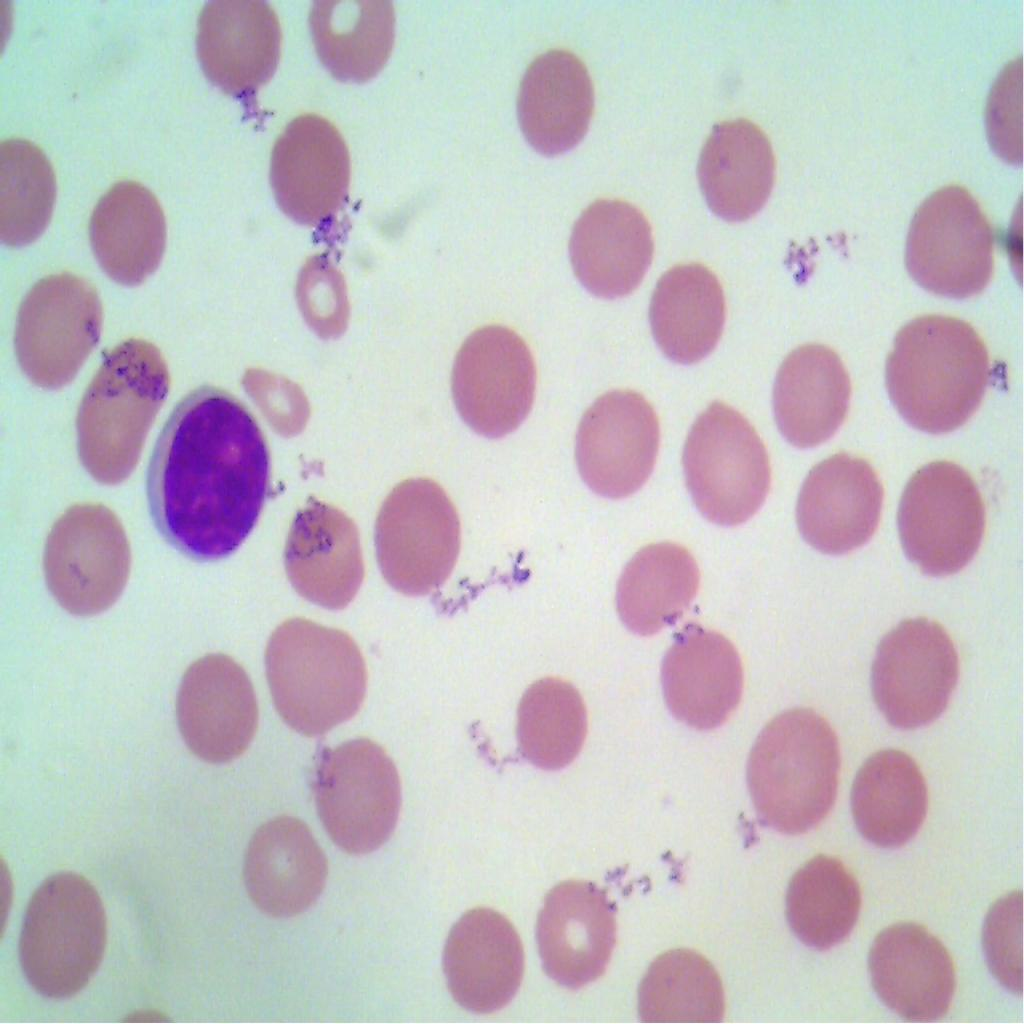Eritrosit: (256, 611, 389, 738), (302, 728, 411, 878), (32, 481, 146, 624), (886, 175, 998, 318), (531, 855, 636, 1004), (883, 299, 996, 435), (862, 610, 970, 751), (9, 861, 111, 1010), (438, 305, 540, 450), (666, 392, 771, 532), (76, 343, 170, 492), (6, 264, 112, 394), (852, 918, 978, 1023), (689, 98, 786, 234), (235, 801, 335, 932), (374, 464, 464, 607), (742, 698, 840, 828), (506, 660, 606, 785), (511, 40, 615, 159), (768, 328, 863, 458), (786, 448, 886, 569), (902, 451, 986, 589), (270, 87, 356, 221), (278, 494, 370, 619), (774, 835, 868, 957), (79, 171, 174, 291), (842, 735, 936, 852), (562, 184, 655, 302), (176, 638, 258, 771), (566, 382, 660, 497), (664, 616, 751, 740), (436, 894, 528, 1011), (634, 248, 726, 360), (612, 528, 698, 642), (304, 0, 408, 92), (188, 0, 282, 95), (0, 128, 61, 252), (235, 351, 314, 445), (294, 261, 364, 352)
Limfosit: (141, 372, 276, 574)
